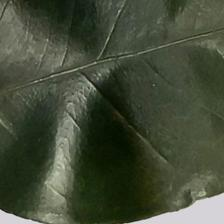healthy: (2, 5, 224, 177)
